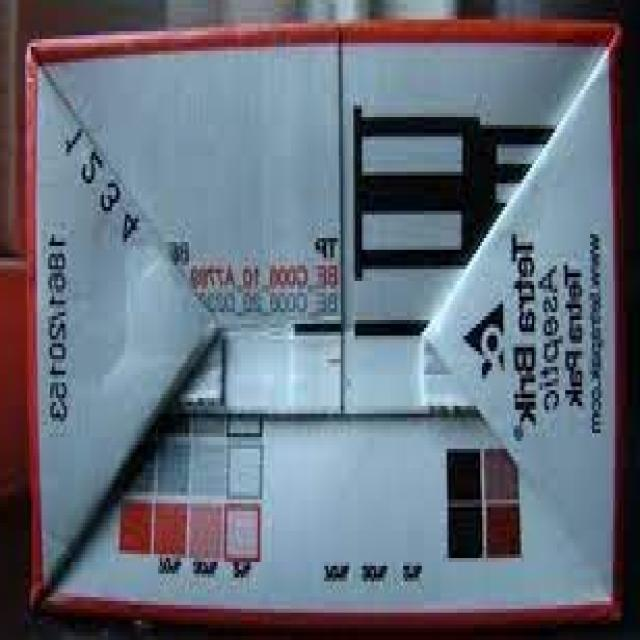cardboard: (29, 12, 627, 632)
